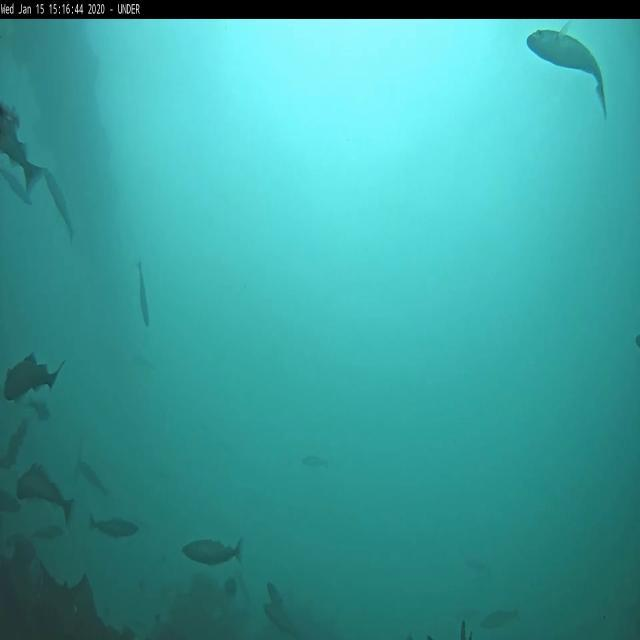fish: (525, 22, 607, 122), (0, 106, 44, 196), (15, 464, 75, 528), (2, 352, 65, 399), (46, 165, 74, 242), (183, 535, 243, 564), (0, 166, 32, 206), (88, 516, 138, 539), (260, 604, 298, 634), (79, 462, 108, 498), (482, 610, 520, 632), (138, 262, 150, 330), (268, 583, 288, 618), (1, 490, 20, 514), (466, 558, 490, 576), (305, 456, 329, 469)
